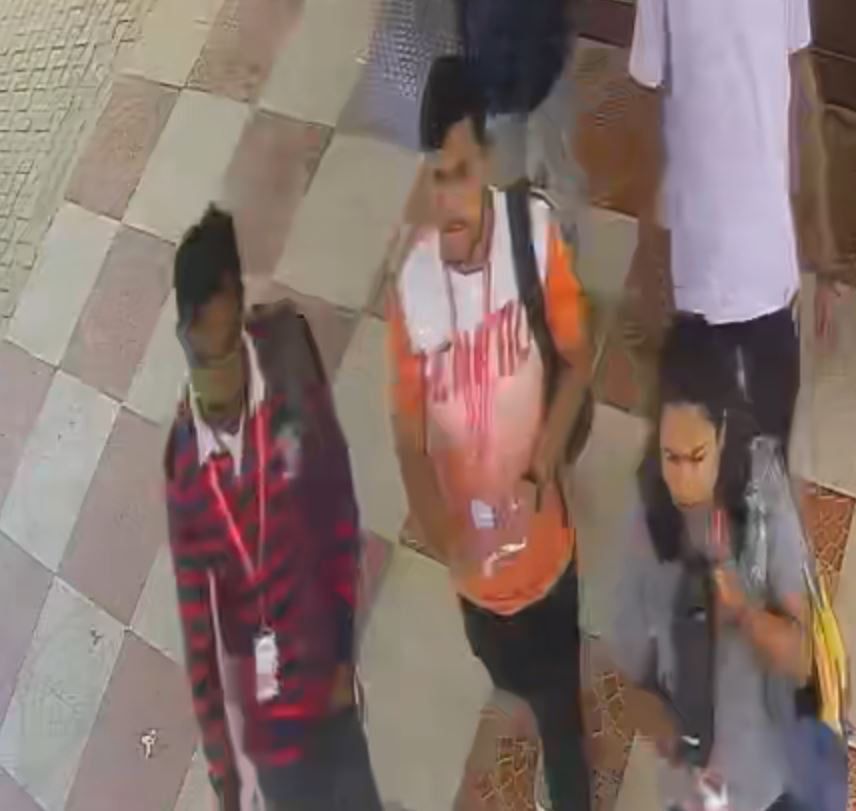intruder: (385, 47, 623, 811), (128, 204, 374, 811), (627, 321, 856, 811)
